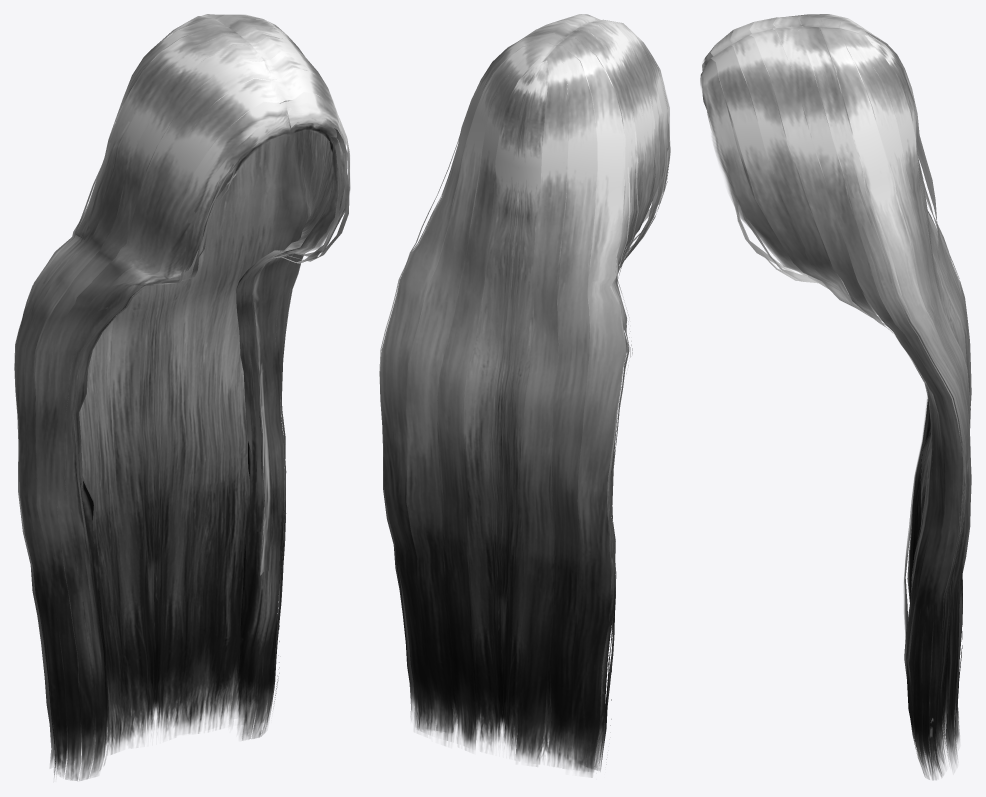
The model's file is hair_long01.gltf.
The picture shows the model from 3 angles, left to right: view 1: azimuth 30°, elevation 25°; view 2: azimuth 150°, elevation 25°; view 3: azimuth 270°, elevation 25°; orthographic projection. The views are drawn at different scales.
Parts seen in each view (by area): view 1: hair_long01; view 2: hair_long01; view 3: hair_long01.
Boxes of the visible parts, x1,y1,x2,y2 form: hair_long01: (14,14,350,780); hair_long01: (379,14,670,777); hair_long01: (700,14,971,779).
Bounding box in the file's own units: 0.2706 × 0.7351 × 0.2517.
Materials: 1 (1 with a texture image).
